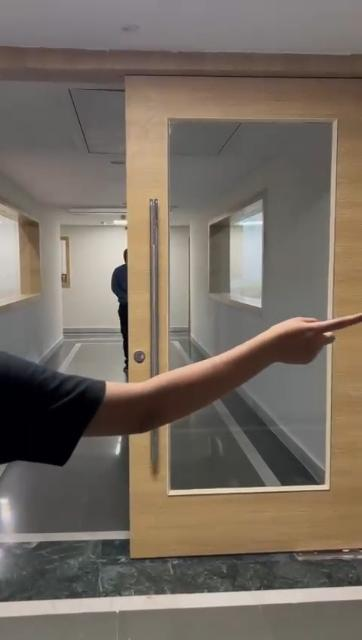door: (124, 63, 362, 554)
floor: (0, 478, 362, 640)
moving-obj: (0, 343, 362, 461)
